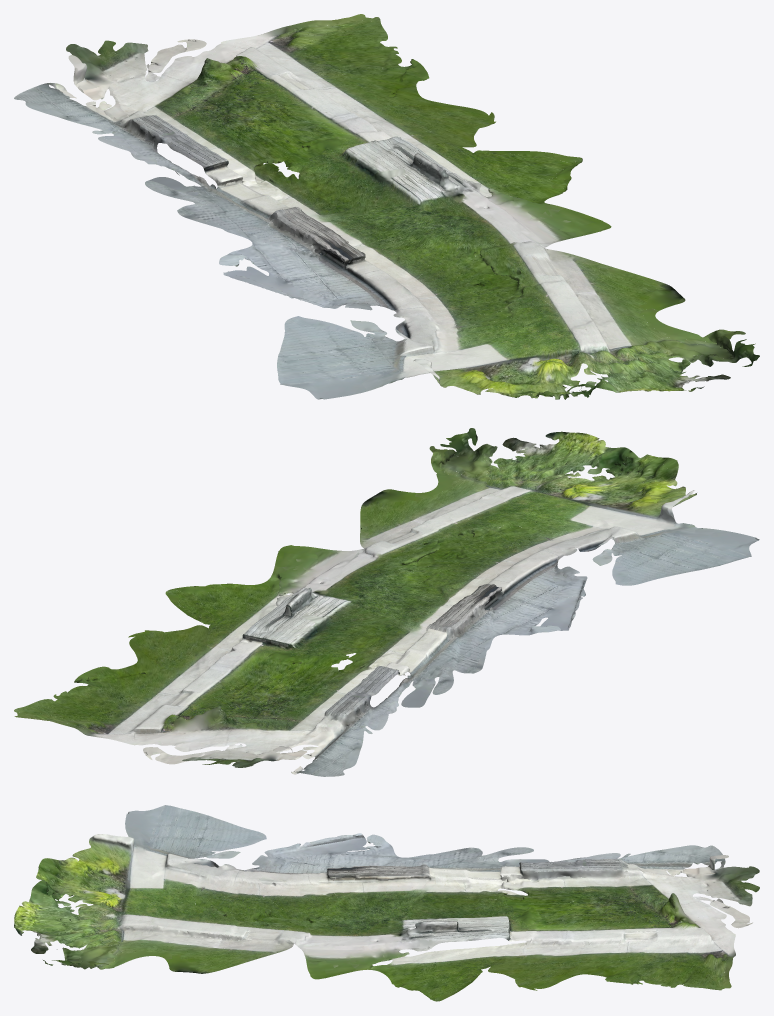
Rendered from lawn.glb.
3 renders of one model, top to bottom at view 1: azimuth 30°, elevation 25°; view 2: azimuth 150°, elevation 25°; view 3: azimuth 270°, elevation 25°, orthographic. The views are drawn at different scales.
Parts seen in each view (by area): view 1: Object_1, Object_2; view 2: Object_1, Object_2; view 3: Object_1, Object_2.
Boxes of the visible parts, <box> form: Object_1: <box>14,17,759,399</box>; Object_2: <box>102,14,730,399</box>; Object_1: <box>14,428,759,776</box>; Object_2: <box>14,432,685,752</box>; Object_1: <box>14,805,759,1001</box>; Object_2: <box>14,834,735,1001</box>.
Size of the model in its own units: 15.12 by 1.29 by 26.88.
2 materials, 2 textured.
